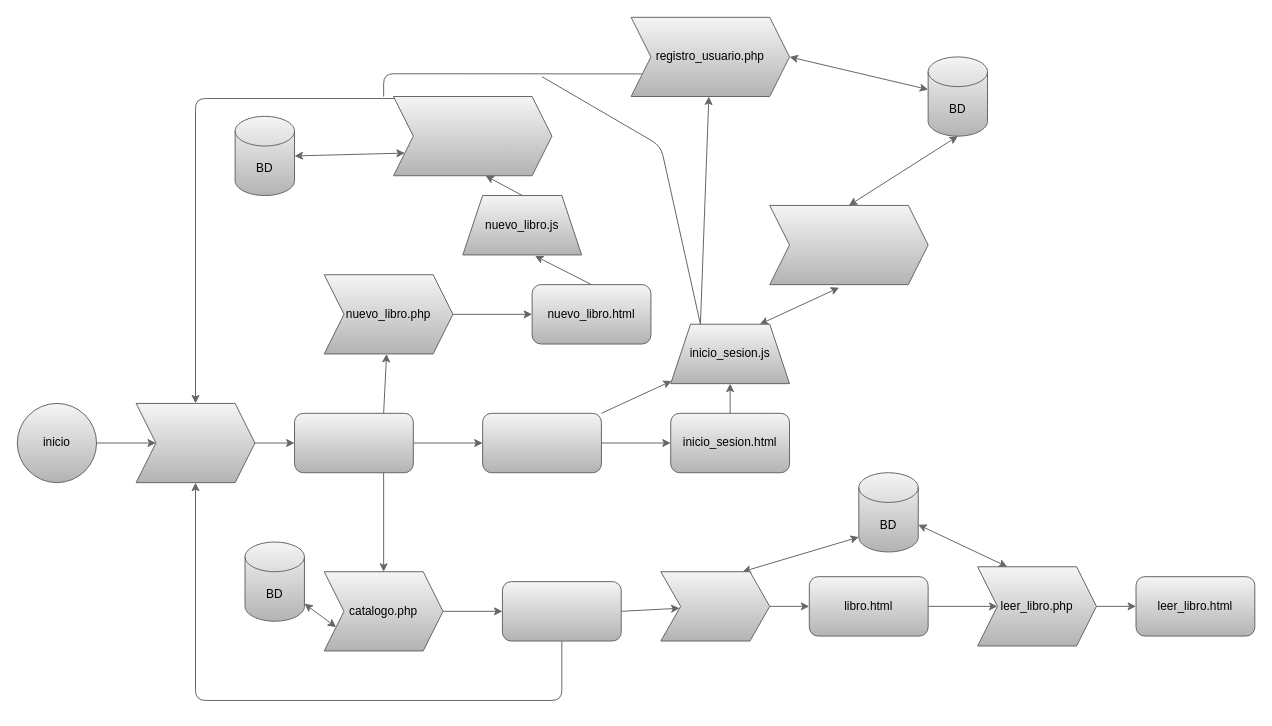
The diagram is 1272 pixels wide and 726 high, and some of its shapes have lost their labels. The shapes that lost their labels are listed below. From the top down, each one's centre as x and y in pixels, then its label:
At (472,136): "publicar_libro.php".
At (848,244): "get_contrasena.php".
At (195,442): "Index.php".
At (353,442): "index.html".
At (541,442): "register.html".
At (561,611): "catalogo.html".
At (715,606): "libro.php".
